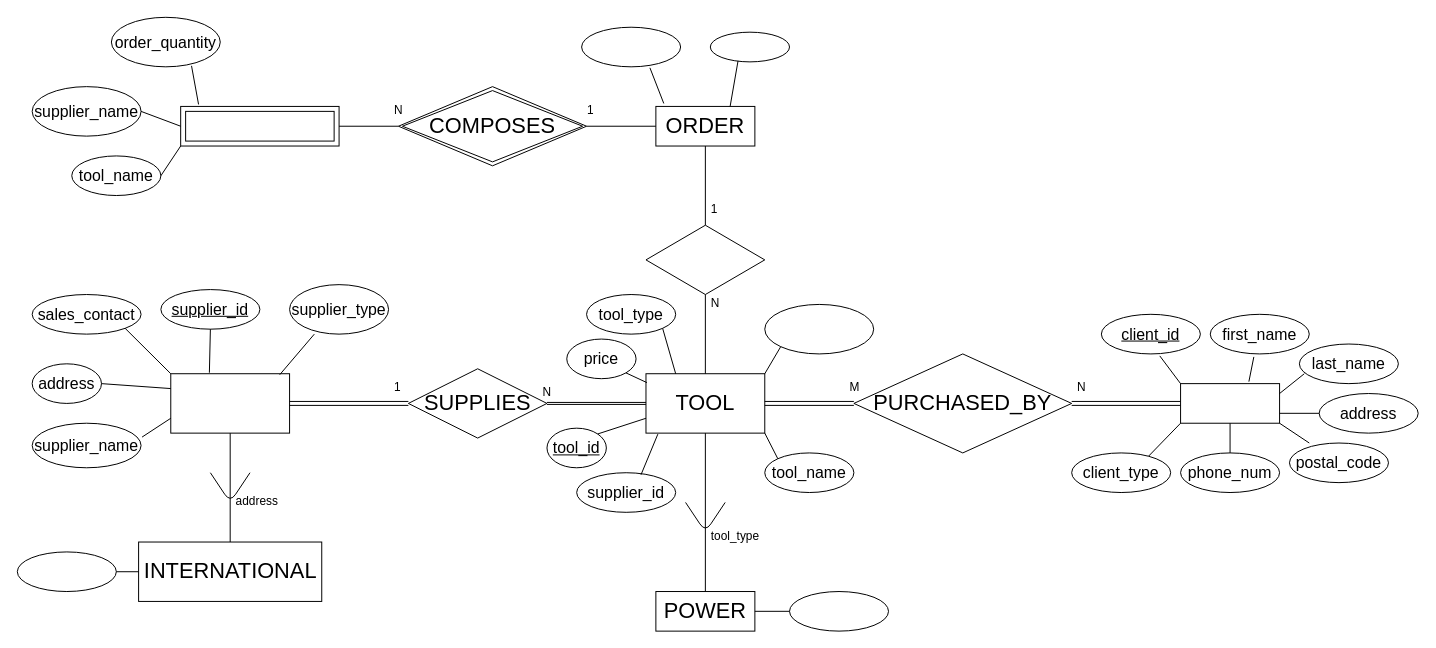
Image size: 1436x648. Some labels were removed from this diagram. The centre of each missing label's shape, as x and y in pixels:
"CLIENT" belongs at pixel 1230 403.
"date" belongs at pixel 749 46.
"import_tax" belongs at pixel 66 571.
"order_id" belongs at pixel 631 46.
"ORDER_LINE" belongs at pixel 259 125.
"ORDERS" belongs at pixel 705 259.
"power_type" belongs at pixel 839 611.
"stock_quantity" belongs at pixel 819 328.
"SUPPLIER" belongs at pixel 230 403.
